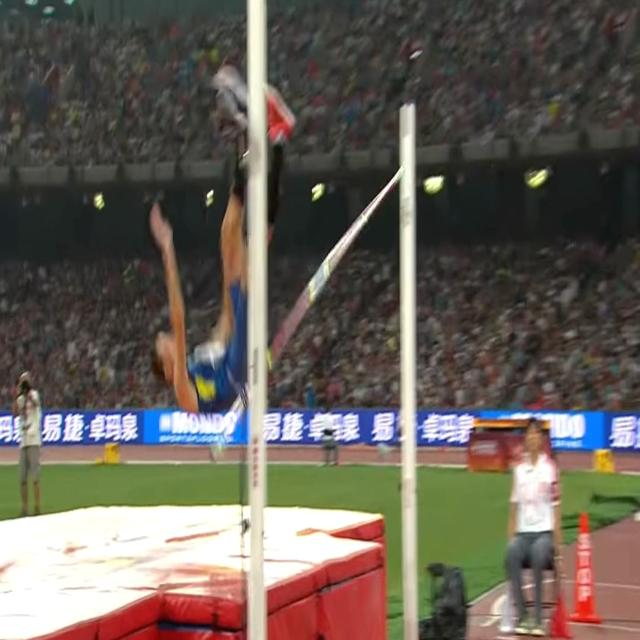land: (152, 63, 296, 417)
